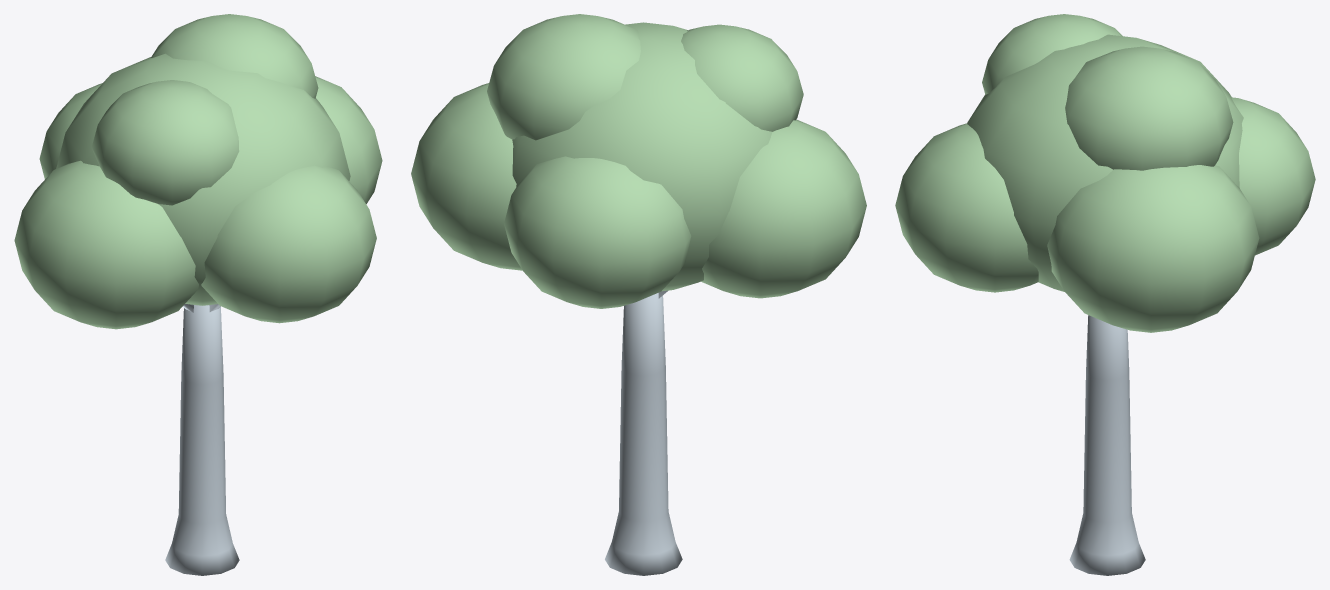
Rendered from tree.glb.
3 renders of one model, left to right at view 1: azimuth 30°, elevation 25°; view 2: azimuth 150°, elevation 25°; view 3: azimuth 270°, elevation 25°, orthographic. The views are drawn at different scales.
Parts seen in each view (by area): view 1: main; view 2: main; view 3: main.
Part boxes in pixels (x1,y1,x2,y2): main: (14, 14, 382, 575); main: (411, 14, 866, 575); main: (895, 14, 1315, 575).
Bounding box in the file's own units: 5.1 × 6.69 × 4.85.
